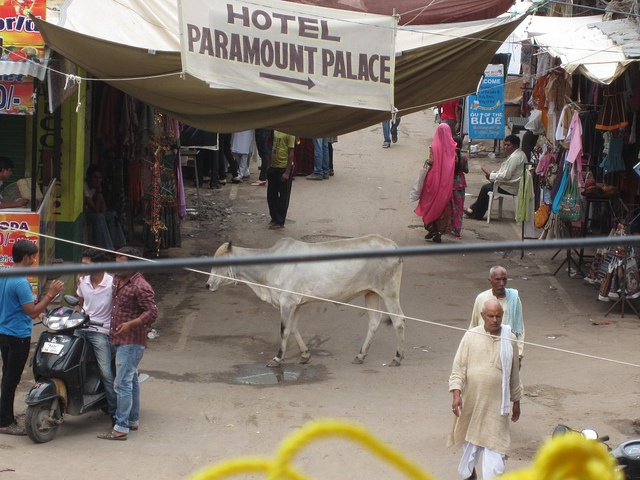non-vehicle: (25, 294, 149, 442), (551, 423, 639, 479)
